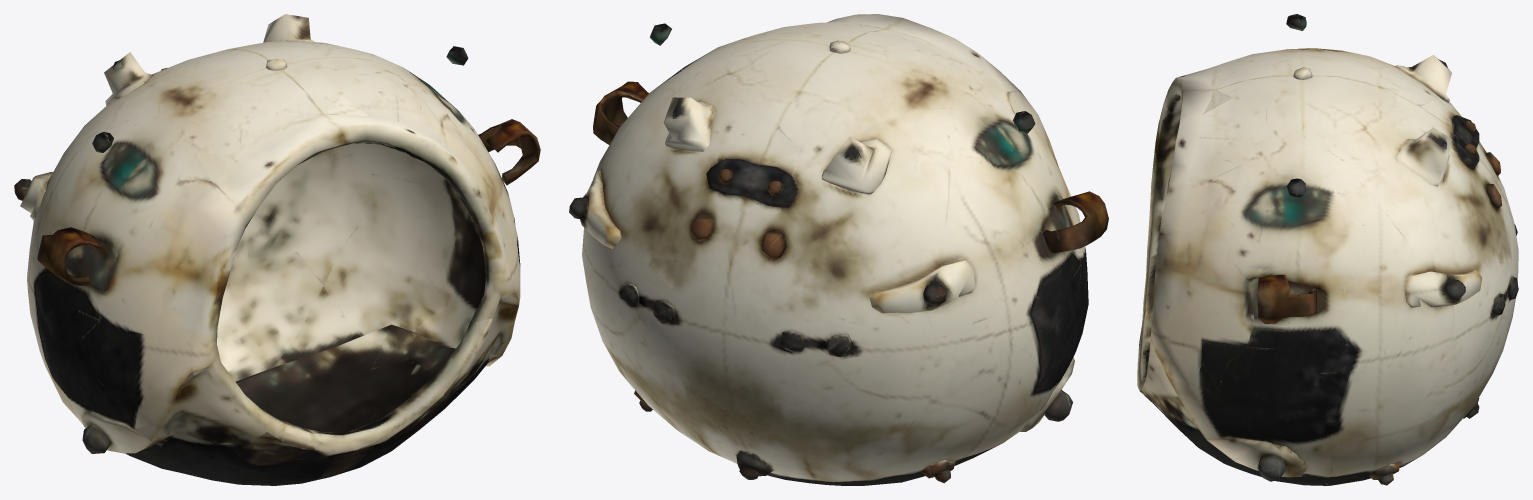
The model's file is shell-elytra.glb.
3 renders of one model, left to right at view 1: azimuth 30°, elevation 25°; view 2: azimuth 150°, elevation 25°; view 3: azimuth 270°, elevation 25°, orthographic. The views are drawn at different scales.
Visible parts, largest first — view 1: shell-elytra; view 2: shell-elytra; view 3: shell-elytra.
Boxes of the visible parts, x1,y1,x2,y2 form: shell-elytra: (14,14,540,485); shell-elytra: (569,14,1108,485); shell-elytra: (1137,14,1518,485).
Bounding box in the file's own units: 2 × 1.62 × 1.43.
1 material, 1 textured.
